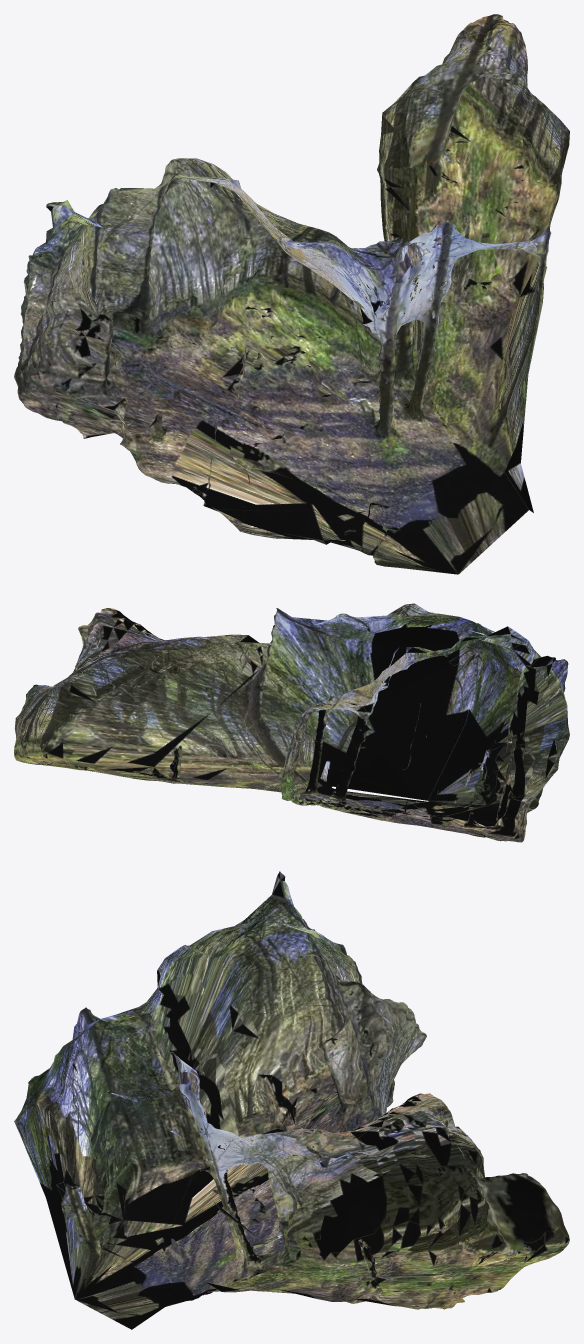
File: compressed_1741866004420_forest_environnement.glb
3 renders of one model, top to bottom at view 1: azimuth 30°, elevation 25°; view 2: azimuth 150°, elevation 25°; view 3: azimuth 270°, elevation 25°, orthographic. The views are drawn at different scales.
Visible parts, largest first — view 1: Object_2; view 2: Object_2; view 3: Object_2.
Part boxes in pixels (x1,y1,x2,y2): Object_2: (14,14,569,574); Object_2: (14,603,569,842); Object_2: (14,871,569,1329).
Bounding box in the file's own units: 17.35 × 9.54 × 15.7.
1 material, 1 textured.
